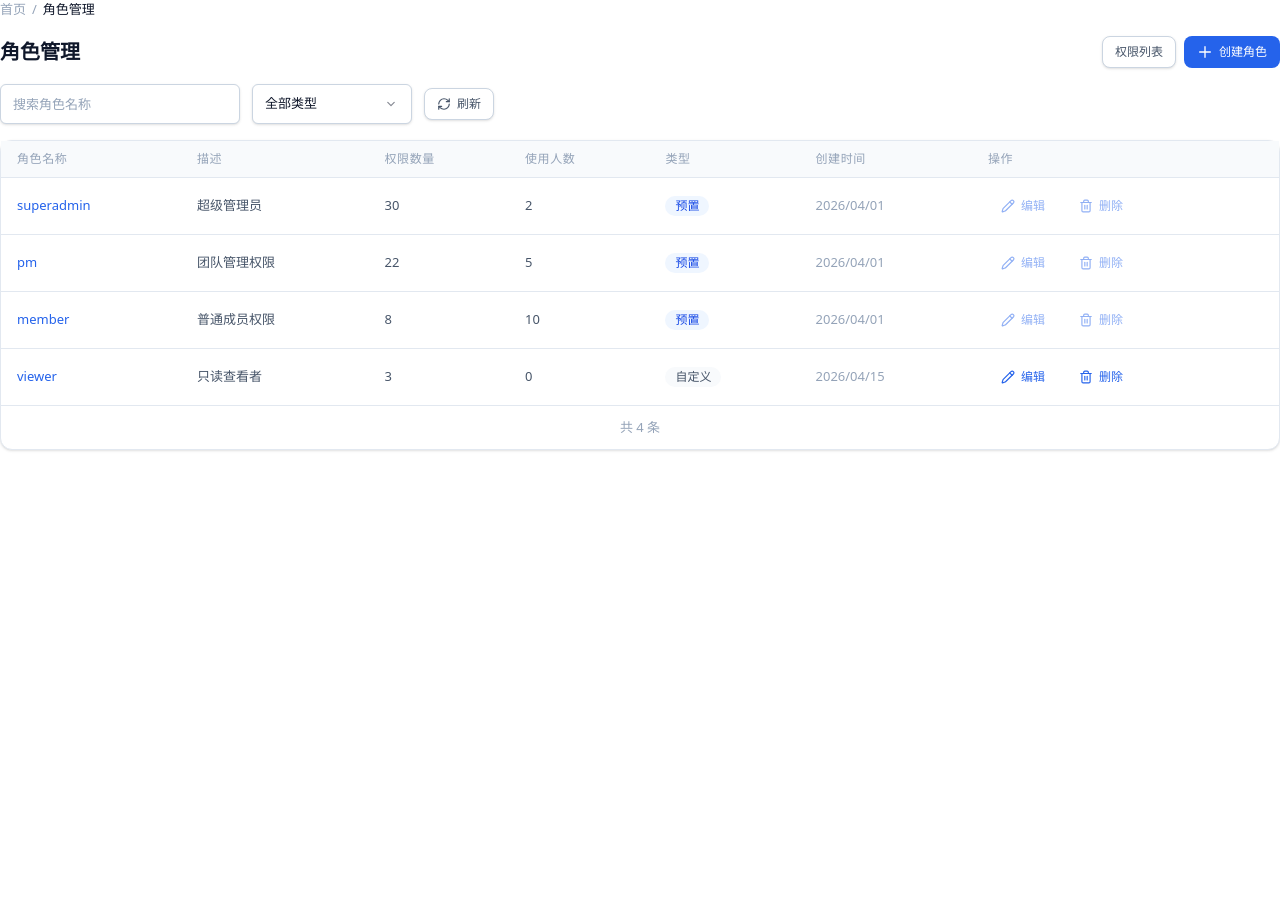
Test: RoleManagementPage › opens create dialog when clicking create button
This screenshot has width=1280, height=900.
Expected: the button "superadmin" is shown, left=17, top=196, right=90, bottom=215
Click the button "创建角色" at (1232, 52), box left=1184, top=36, right=1279, bottom=68
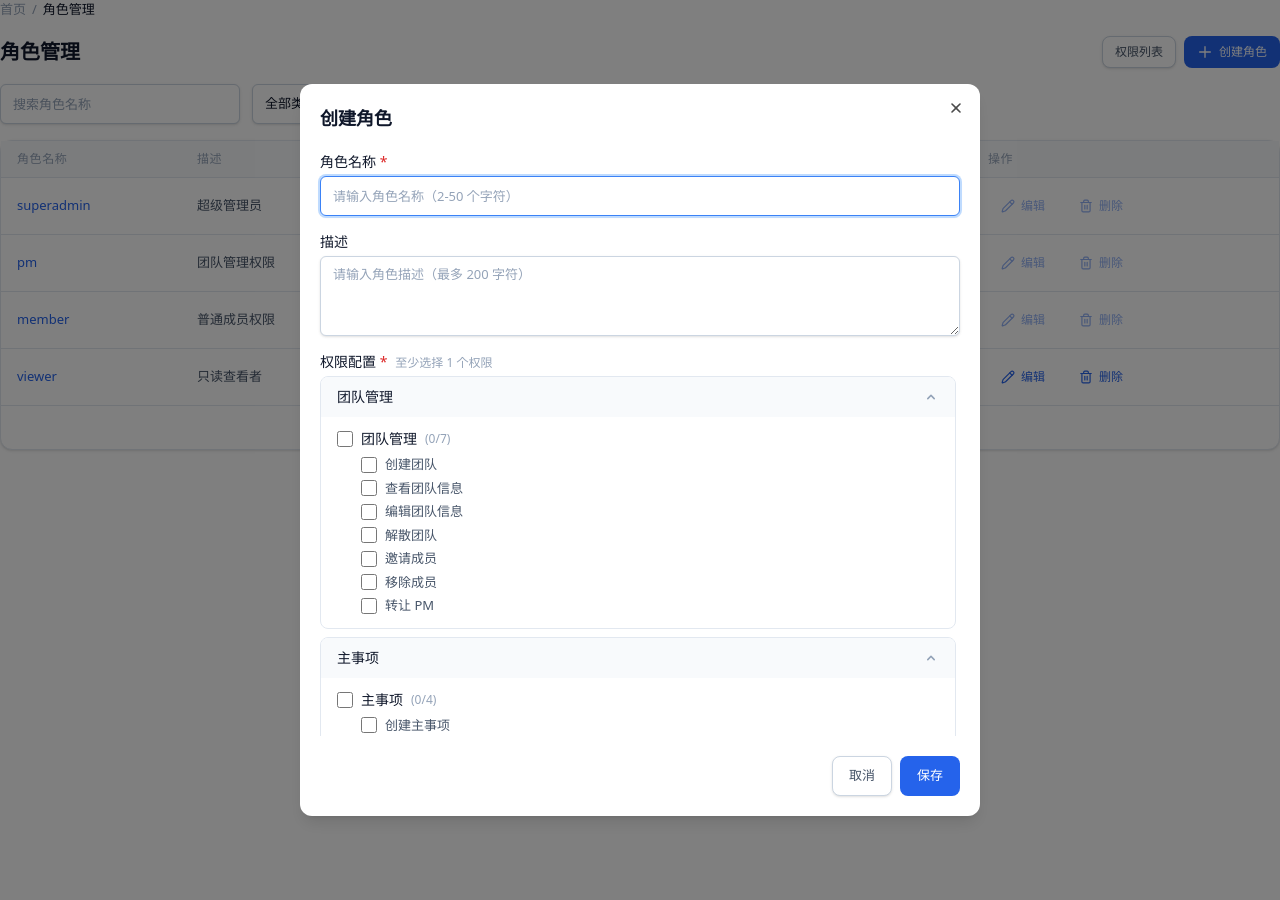
Expected: the heading "创建角色" is shown, left=320, top=106, right=392, bottom=130
